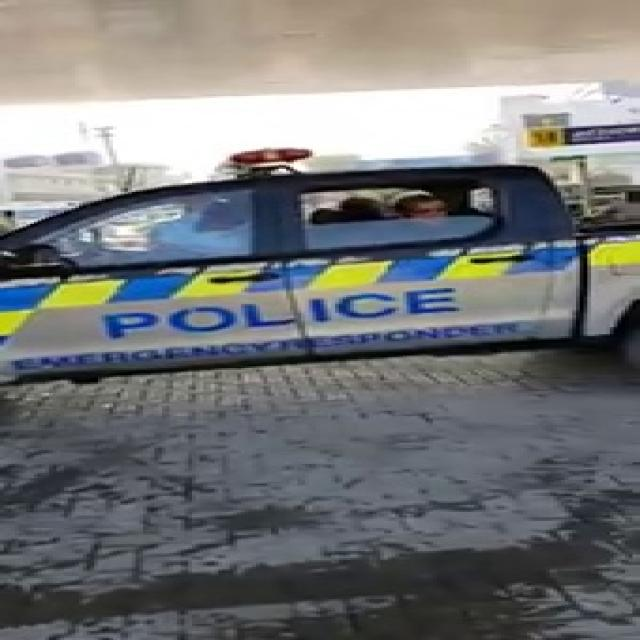police: (0, 140, 640, 411)
